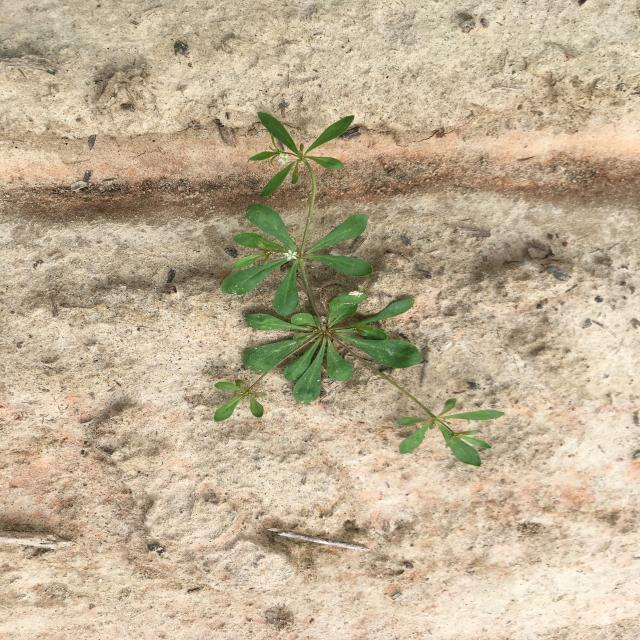Carpetweed: (213, 112, 504, 467)
